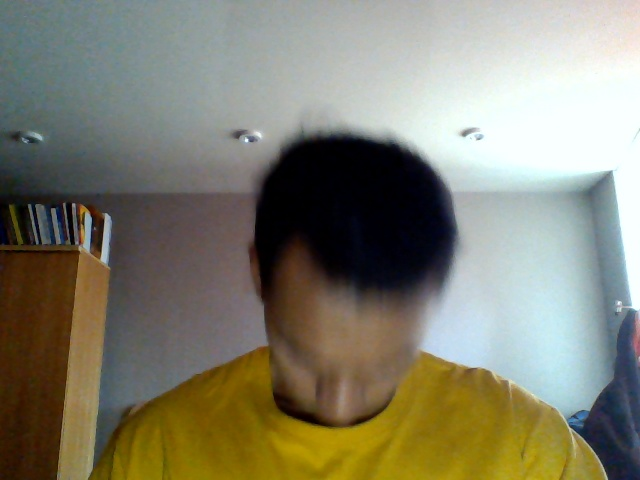no_mask: (271, 374, 395, 429)
